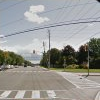crosswalk: (0, 89, 57, 99), (61, 75, 100, 87)
